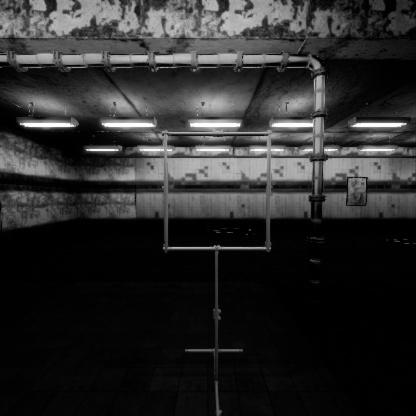gate: (163, 163, 281, 284)
